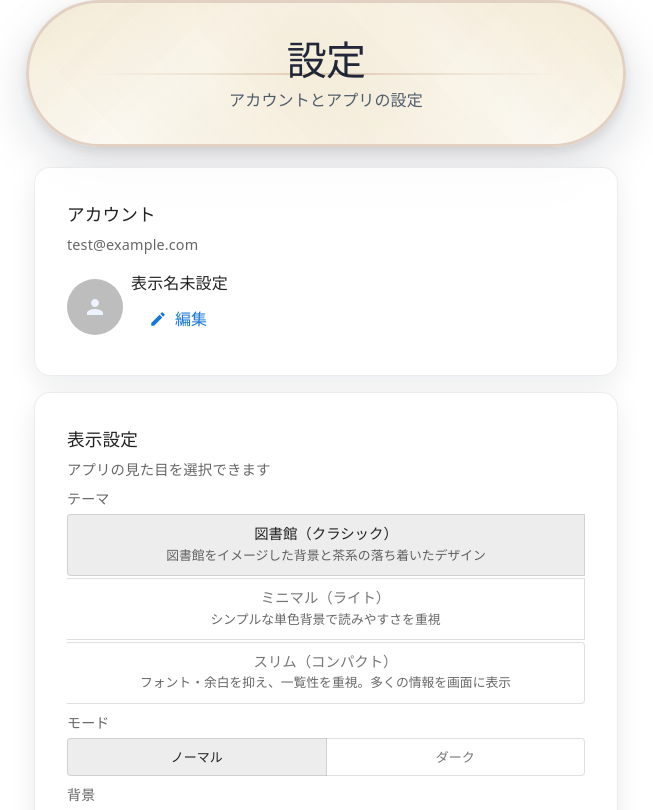
Settings › ミニマル（ライト）選択時は画像選択は非表示だが背景色変更は表示される
Click the button with test id "theme-preset-minimal-light". click: (326, 609)
box: x1=66 y1=578 x2=585 y2=640
(page scrolled)
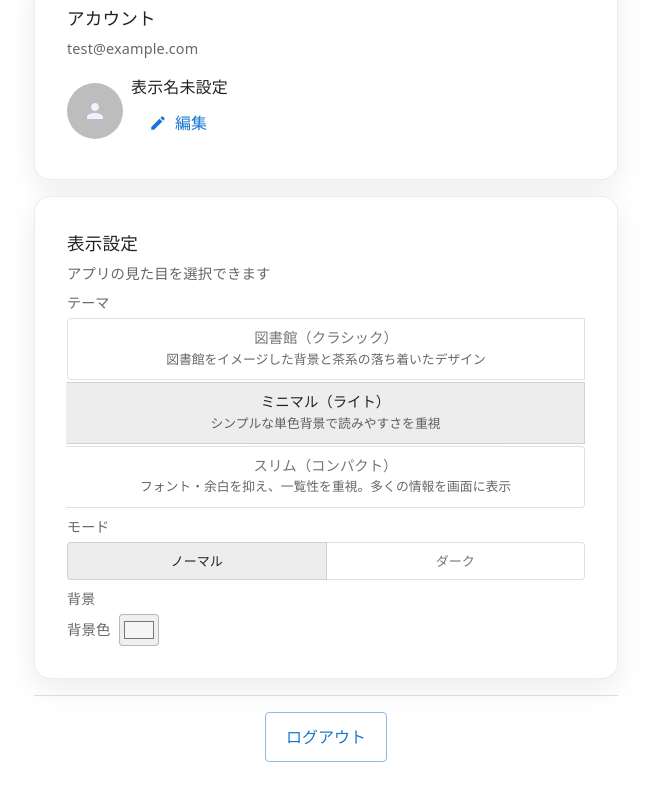
Check: the element with test id "settings-background-section" is shown, box x1=67 y1=589 x2=159 y2=646
Check: the element with test id "background-color-picker" is shown, box x1=67 y1=614 x2=159 y2=646
Check: the colour field with test id "background-color-input" is shown, box x1=119 y1=614 x2=159 y2=646
